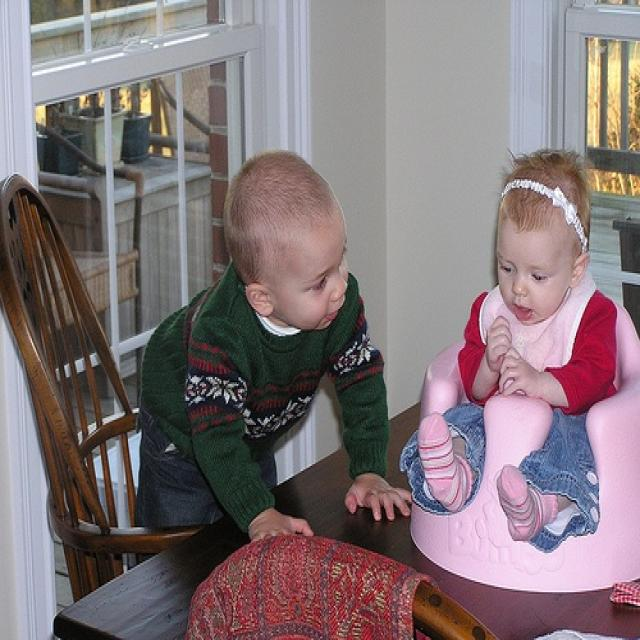chair: (0, 172, 219, 589), (192, 534, 483, 638)
diningtable: (50, 404, 639, 638)
